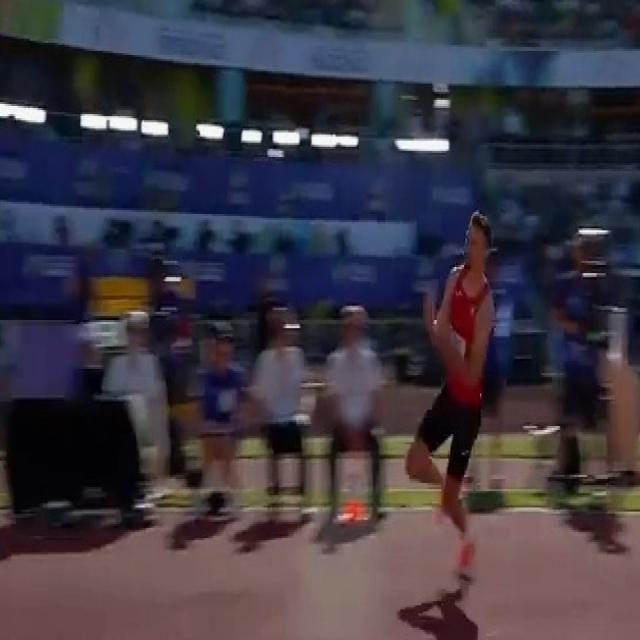run: (408, 212, 504, 590)
